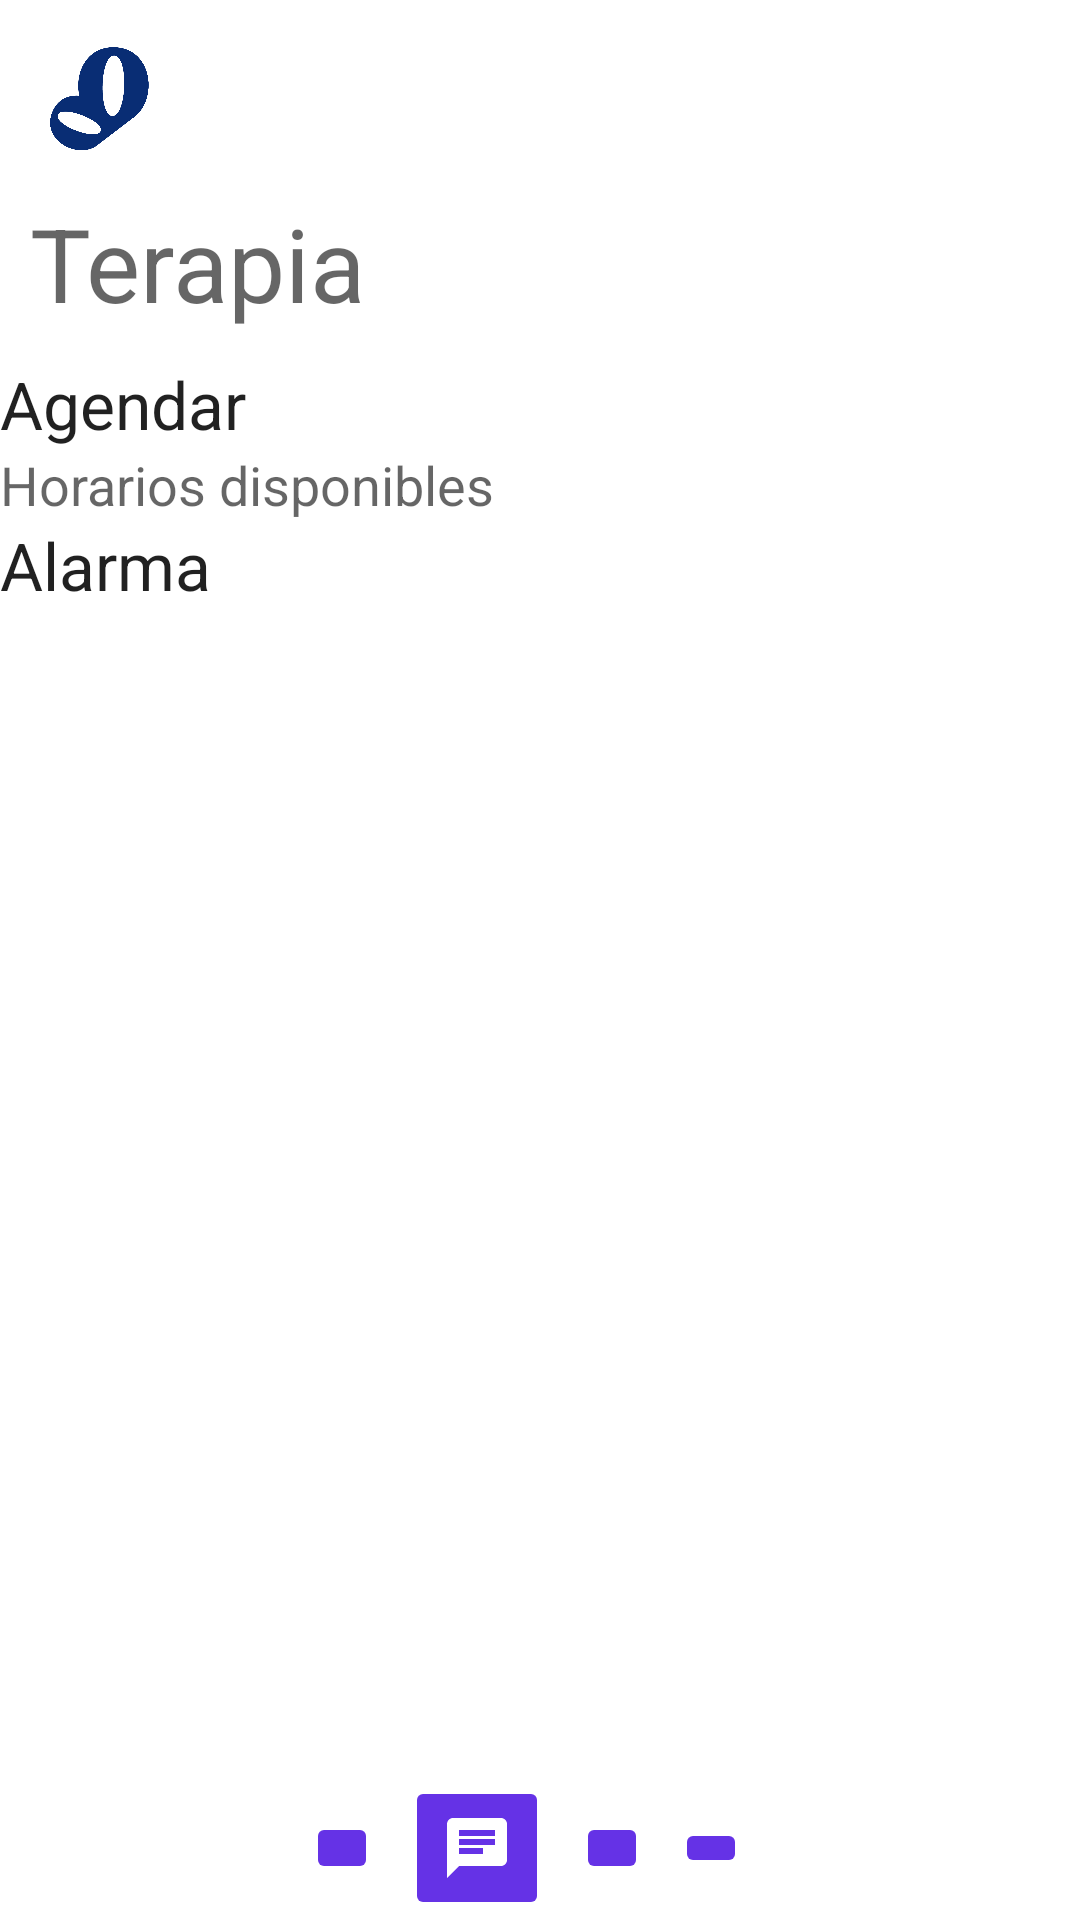

Screen size 1080x1920. Icon name, then its box in pixels as {"x1": x1, "y1": y1, "x2": x2, "y2": y2}:
chatnav: {"x1": 417, "y1": 1794, "x2": 537, "y2": 1902}
